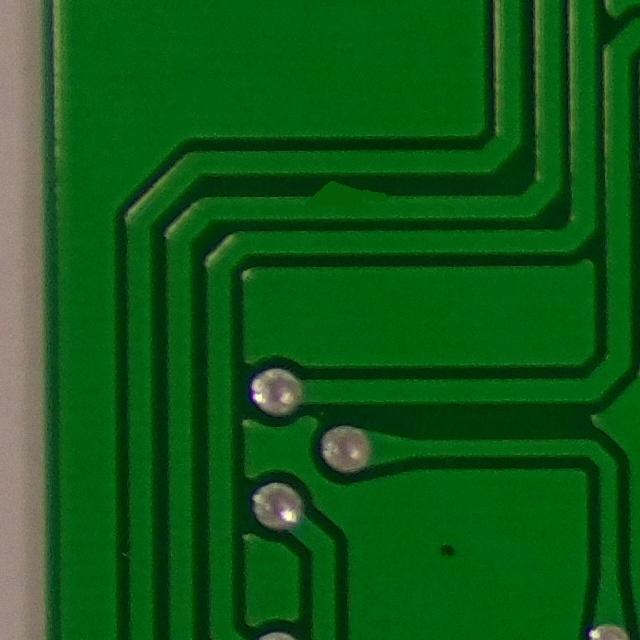spur: (299, 174, 394, 216)
